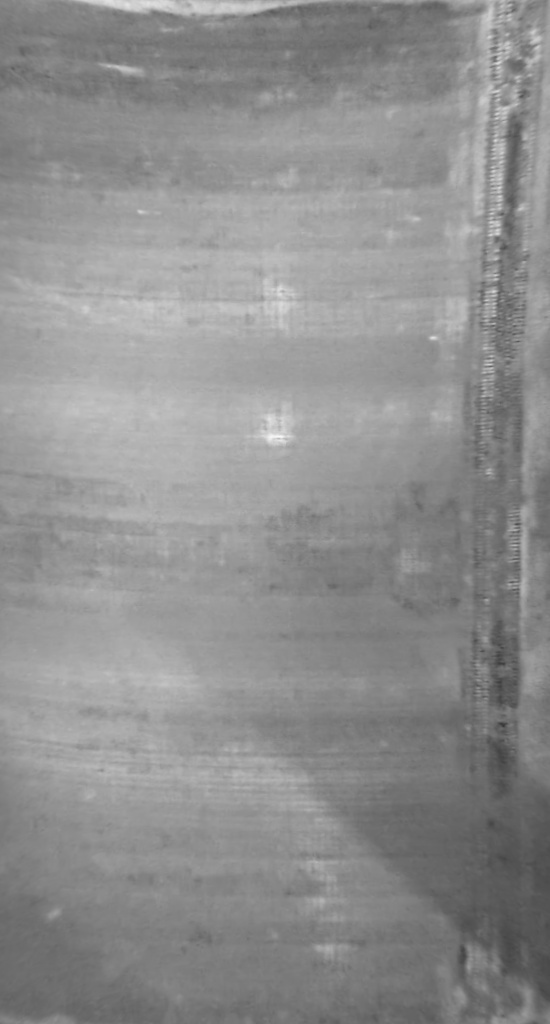splice: (454, 1, 547, 1023)
